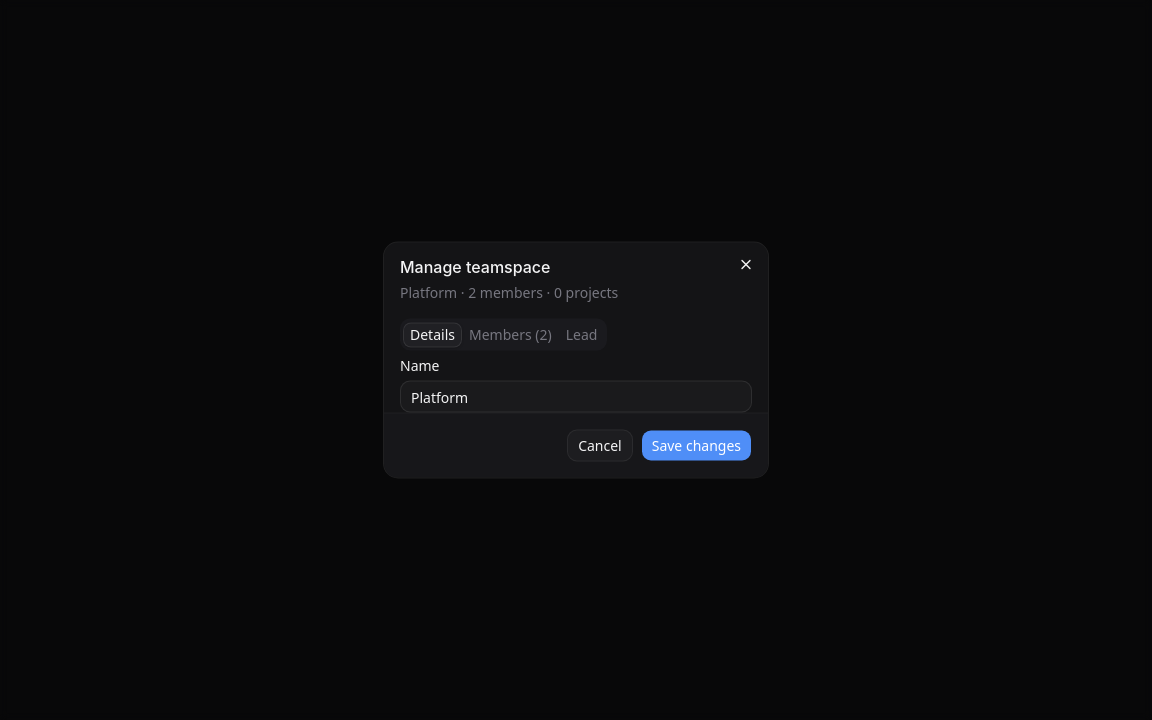
Test: Members tab (C90T1) › failed add keeps the old roster and shows an error
The image size is (1152, 720).
Click the tab "Members (2)" at (510, 334), box [462, 322, 559, 347]
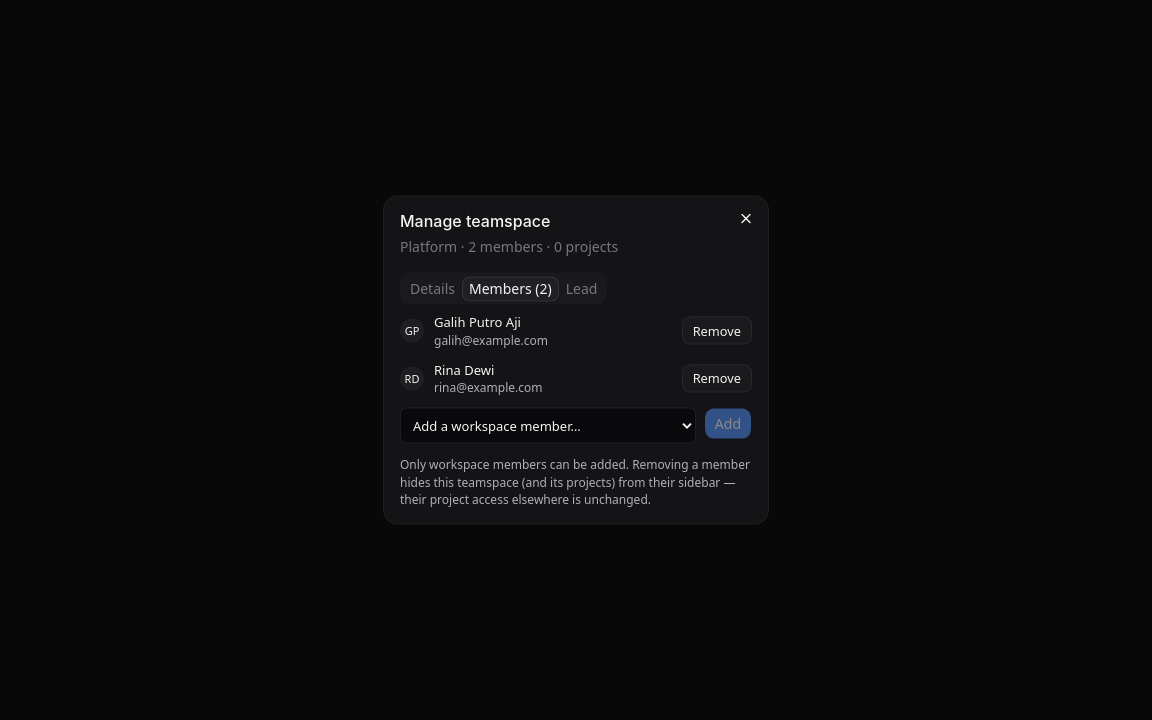
Expected: the text "Galih Putro Aji" is shown, [434, 313, 521, 331]
Select "Budi Santoso (budi@example.com)" in the dropdown named "Add a workspace member" at (548, 426), box [400, 408, 696, 444]
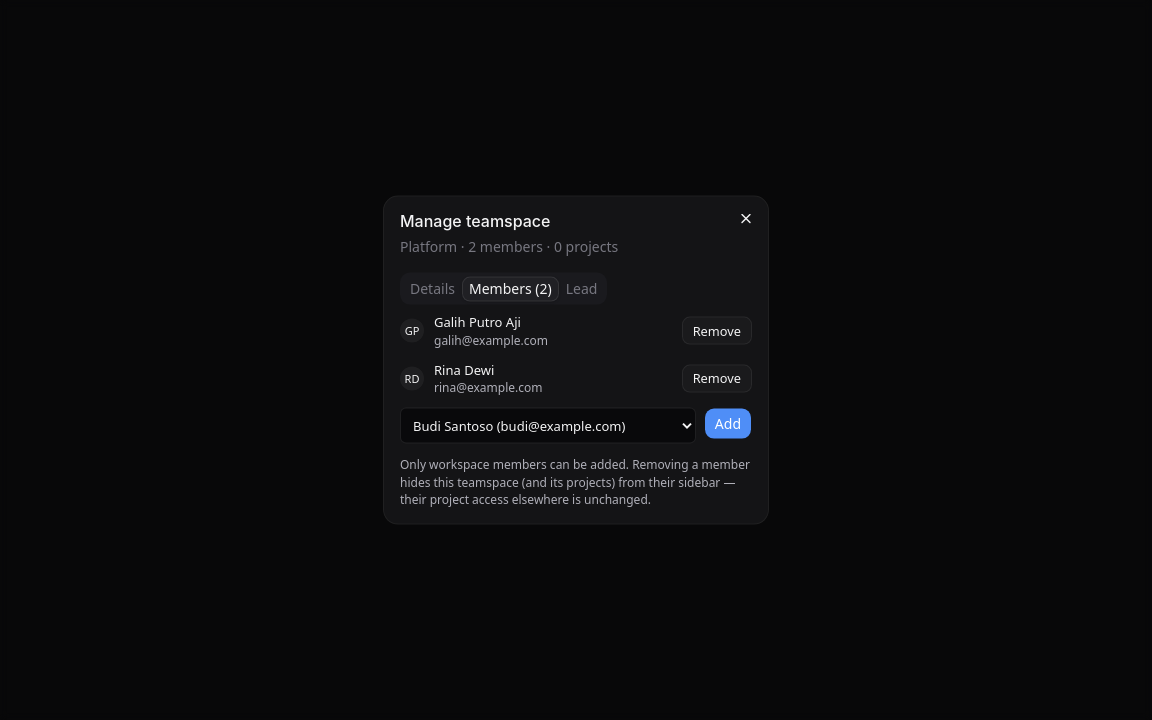
Click the button "Add" at (728, 424), box [704, 408, 752, 440]
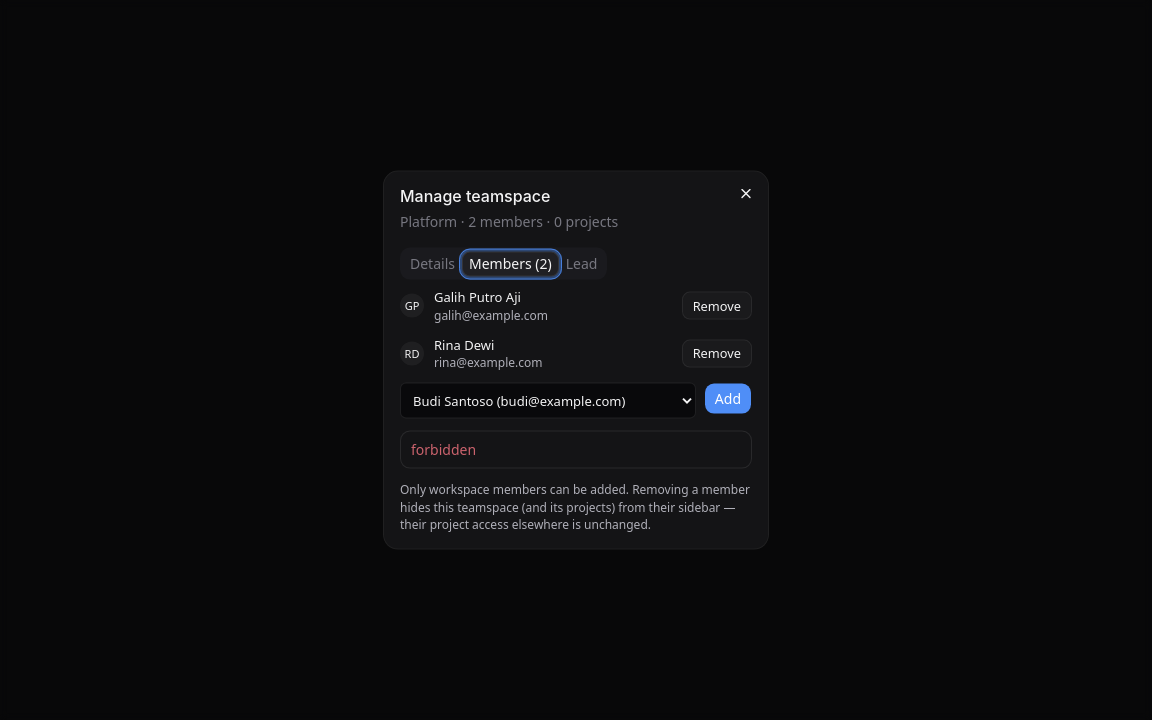
Expected: the text "Galih Putro Aji" is shown, [434, 288, 521, 306]
Expected: the text "Rina Dewi" is shown, [434, 335, 494, 353]
Expected: the text "forbidden" is shown, [411, 440, 476, 459]
